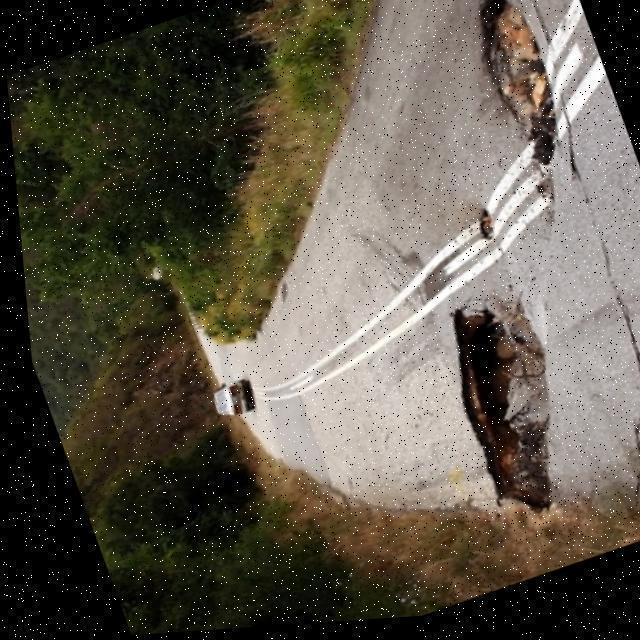Pothole: (454, 288, 551, 509), (481, 0, 556, 164), (480, 209, 494, 239)
